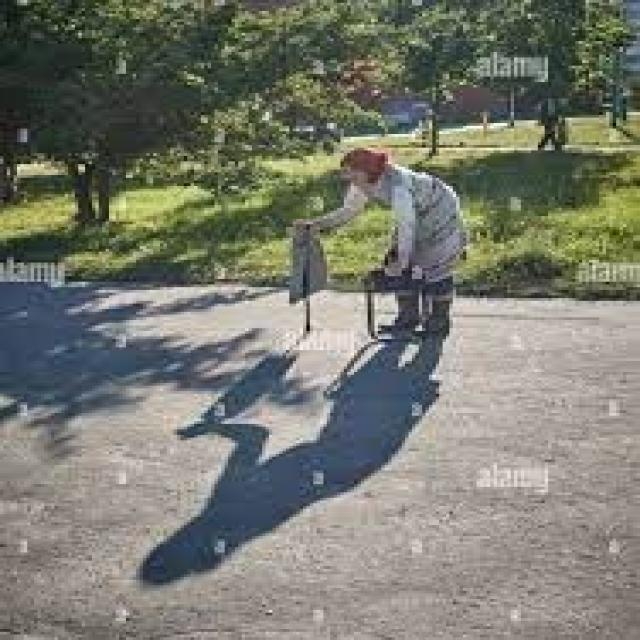idoso em pe: (290, 146, 486, 356)
